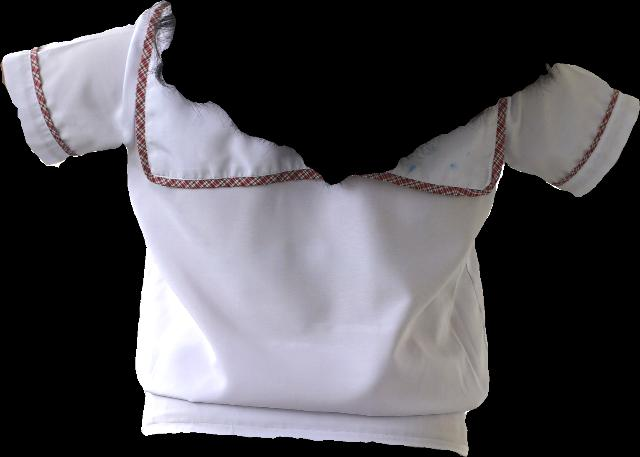pologirl: (0, 1, 639, 456)
